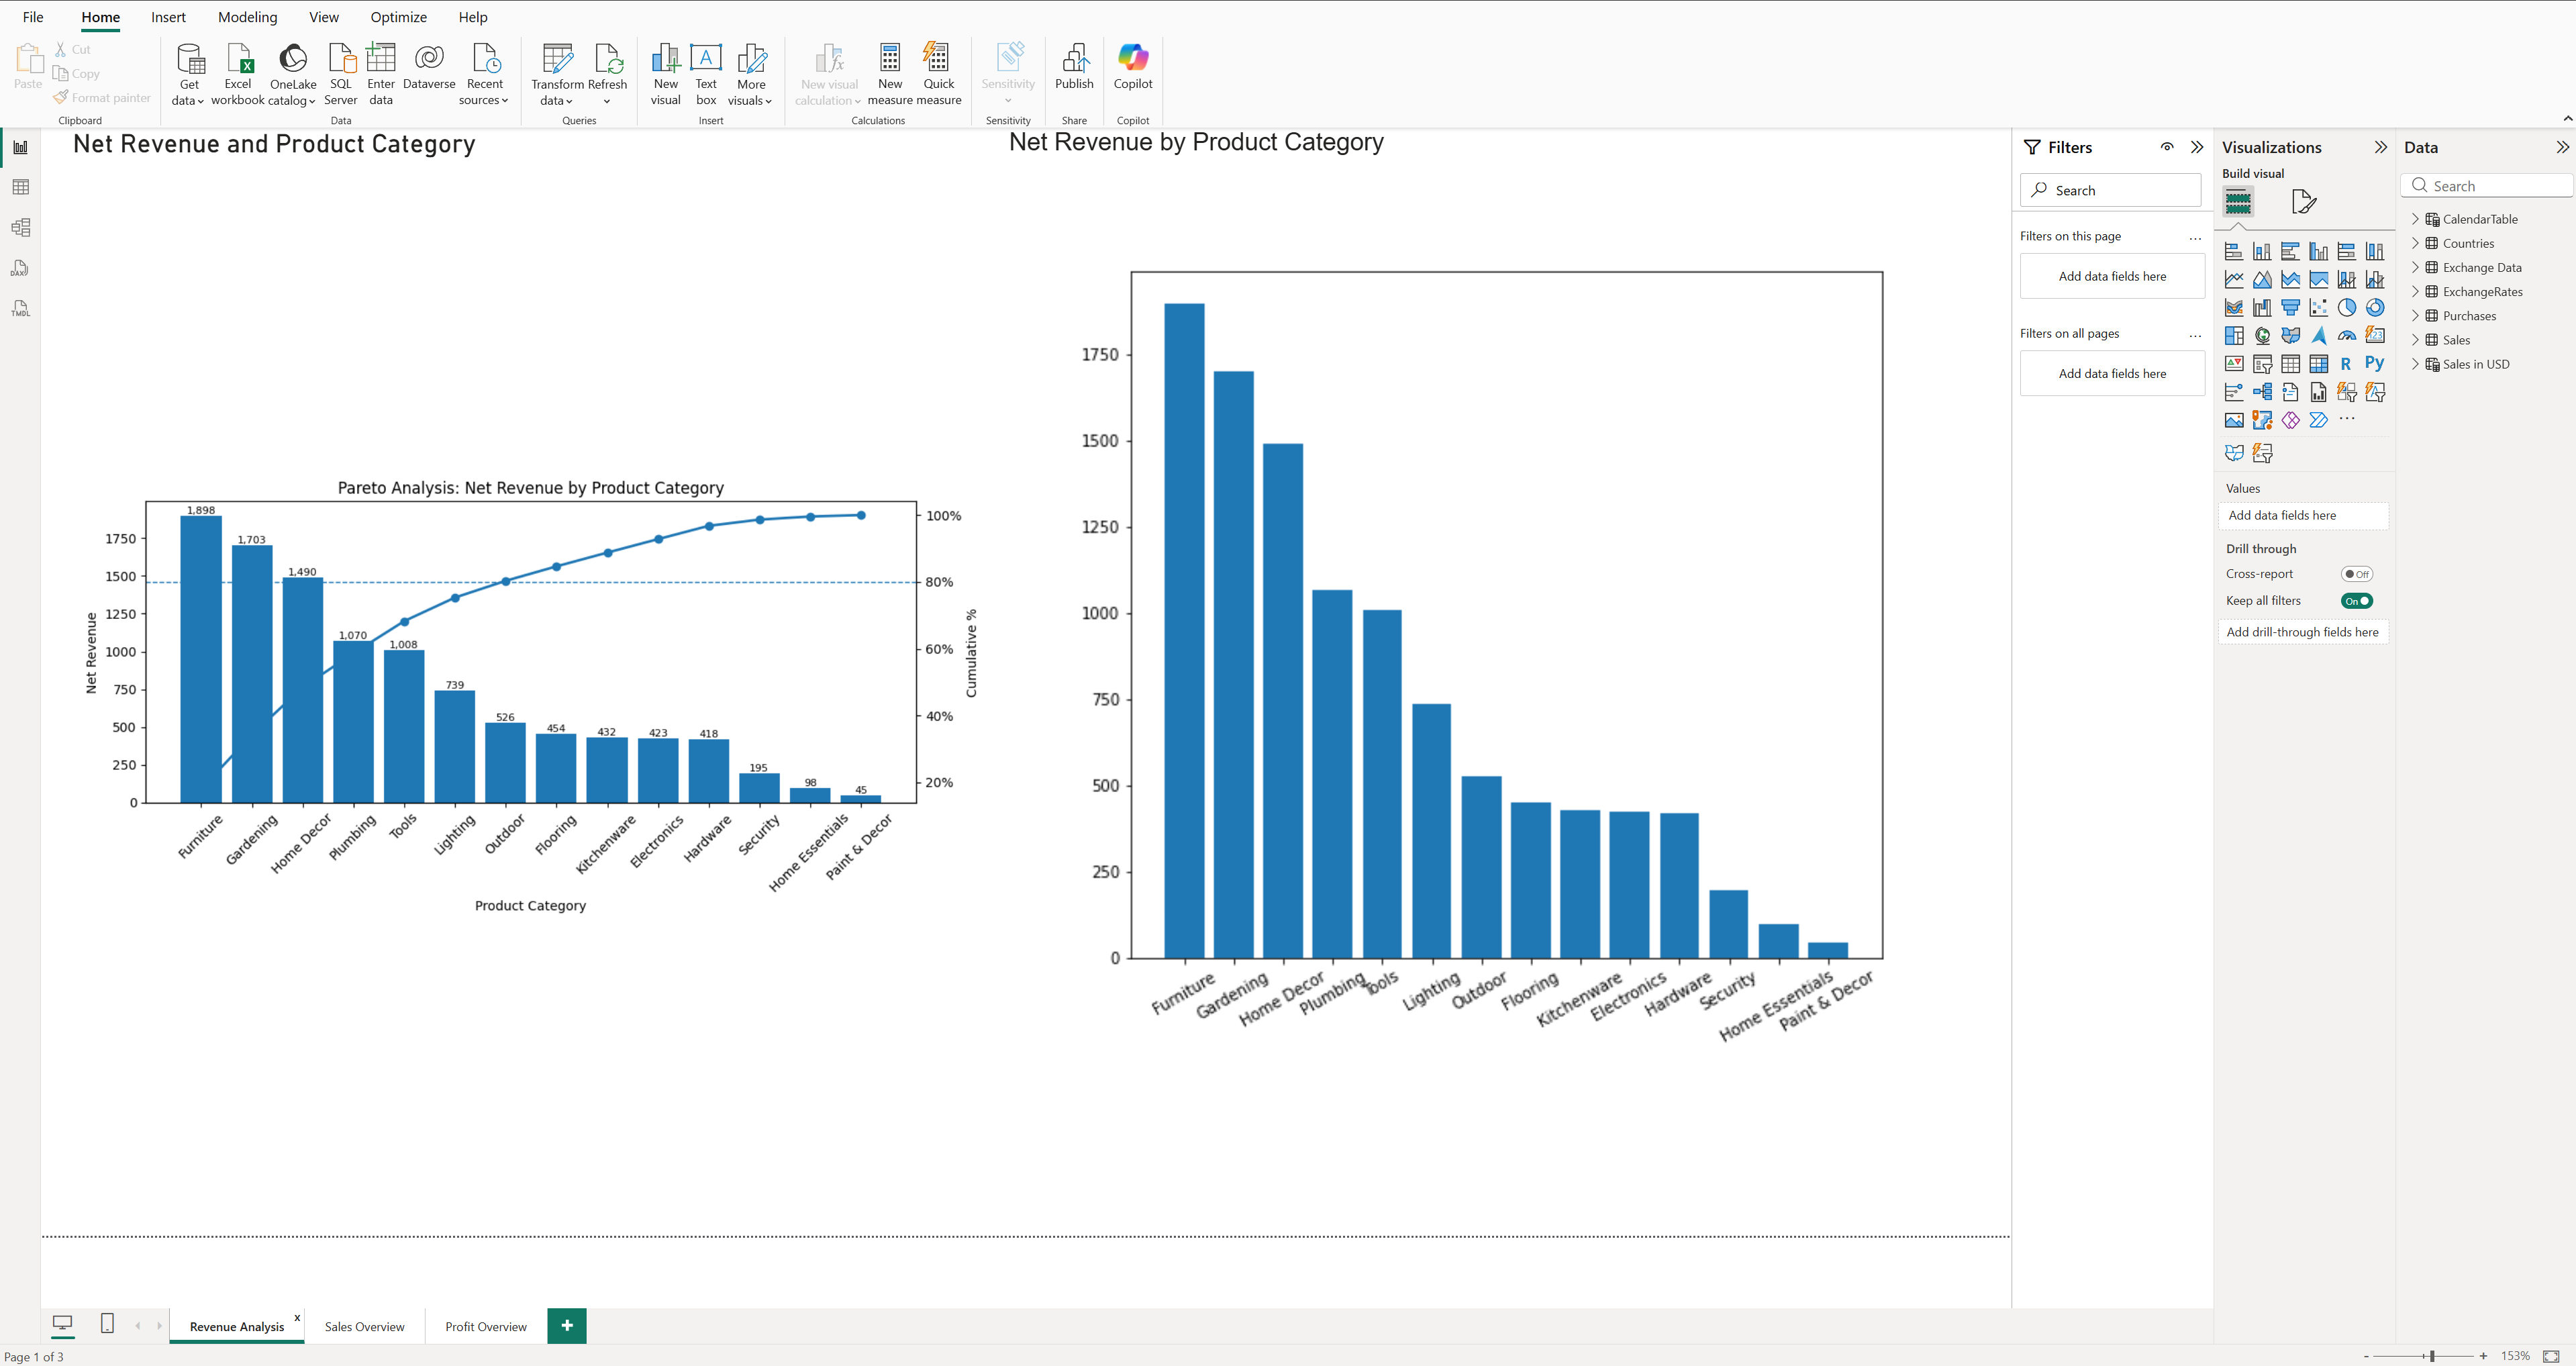

The page's visual inventory and layout, read from the dashboard file:
{"tool":"powerbi","page":{"name":"Revenue Analysis","canvas":[1280,720],"ordinal":1},"visuals":[{"type":"pythonVisual","title":"Net Revenue by Product Category","fields":{"Values":["Sum(Sales.Net Revenue)","Sales.Product Category"]},"box":[624,0,640,608],"z":1000},{"type":"pythonVisual","fields":{"Values":["Sum(Sales.Net Revenue)","Sales.Product Category"]},"box":[16,0,608,720],"z":2000}]}

Visuals, with their boxes on the page's 1280x720 design canvas (x1, y1, x2, y2). These are canvas units, not pixel positions in the 2576x1366 screenshot, which may show the page scaled, cropped or inside an application window:
"Net Revenue by Product Category" pythonVisual: (624, 0, 1264, 608)
pythonVisual - Sum(Sales.Net Revenue) x Sales.Product Category: (16, 0, 624, 720)
